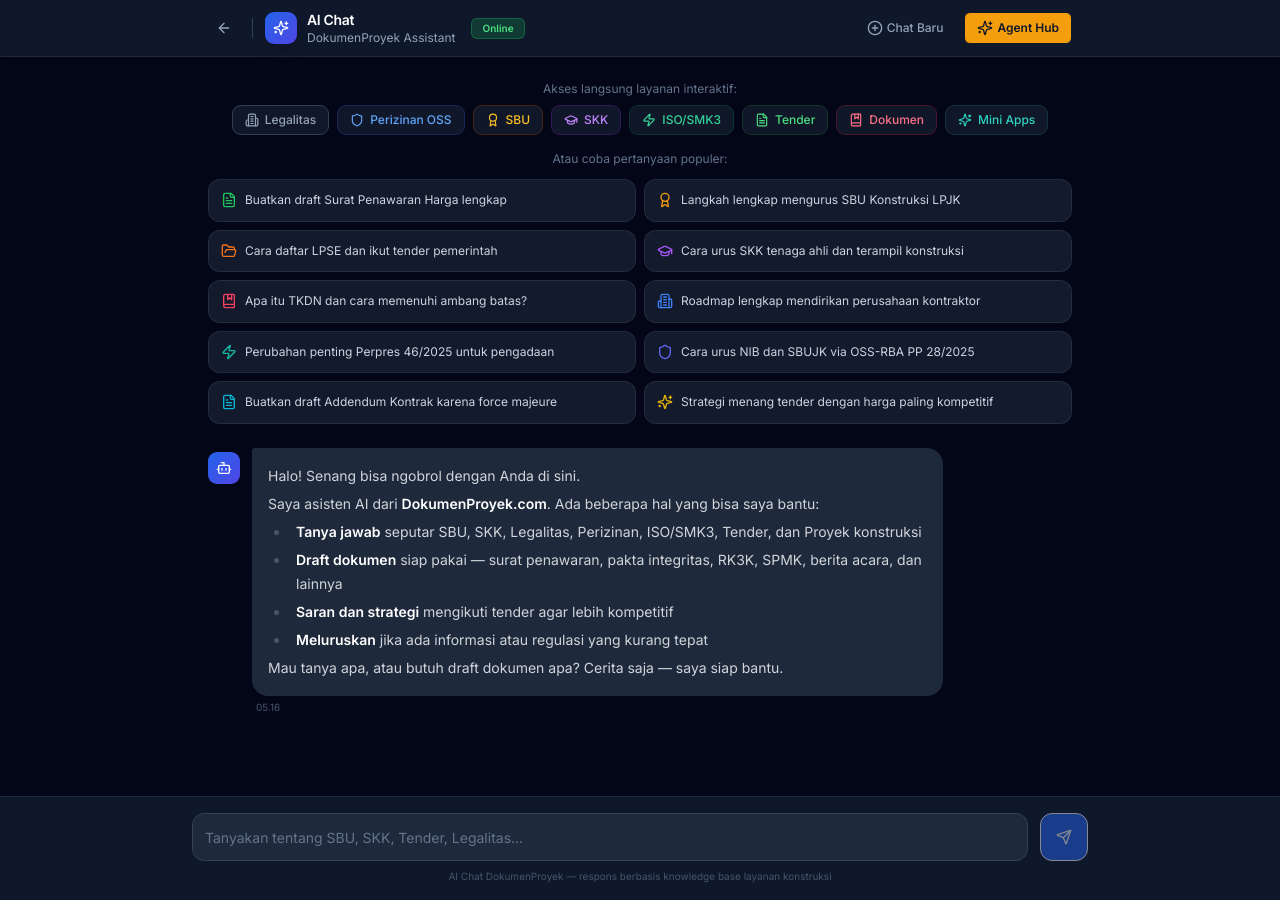
Test: AIChat – error message rendering › shows auth-error message WITHOUT retry button when API returns auth_error
This screenshot has width=1280, height=900.
In the field with test id "input-chat": (610, 837) [192,813,1028,861], type "Test auth"
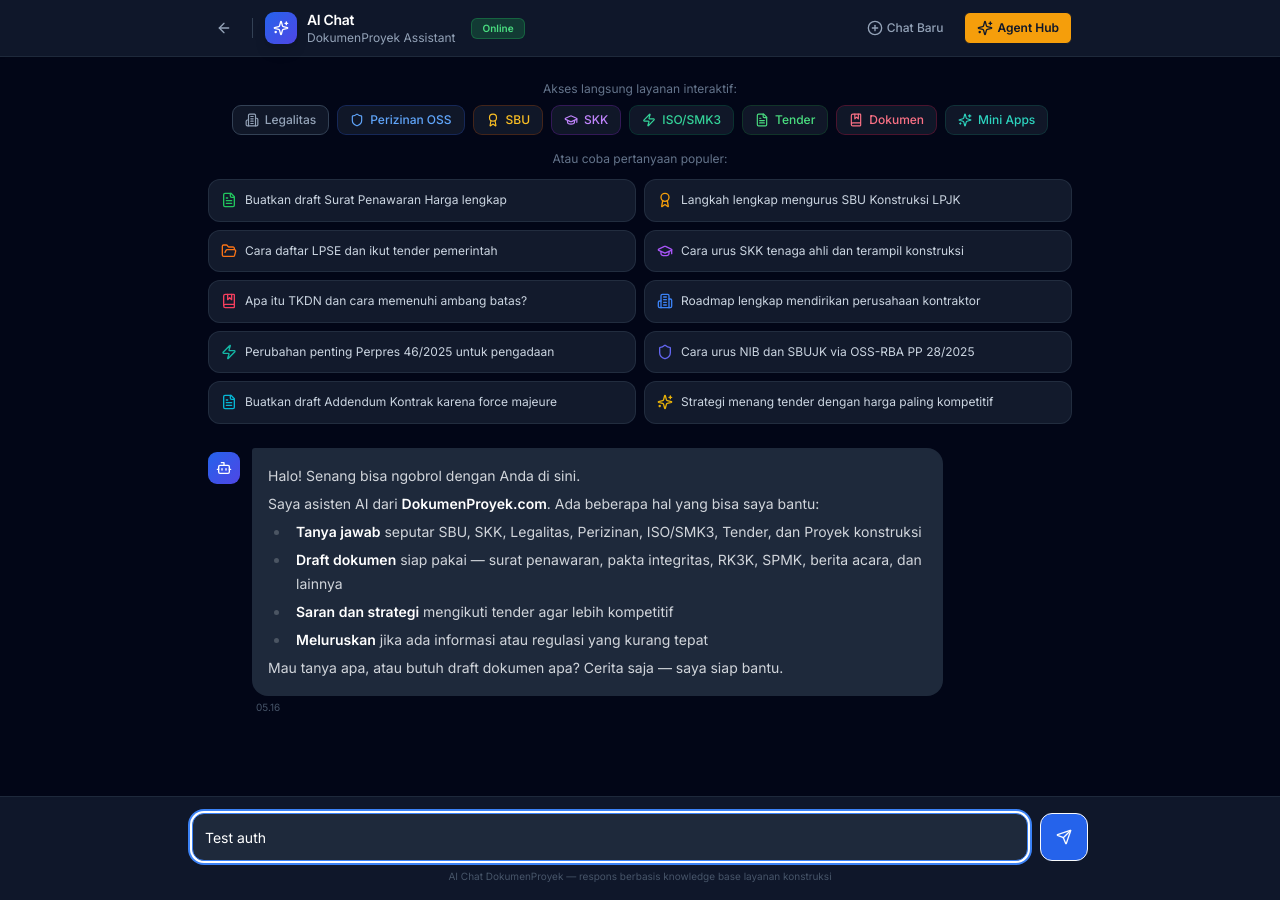
Click the button with test id "button-send-chat": (1064, 837) [1040,813,1088,861]
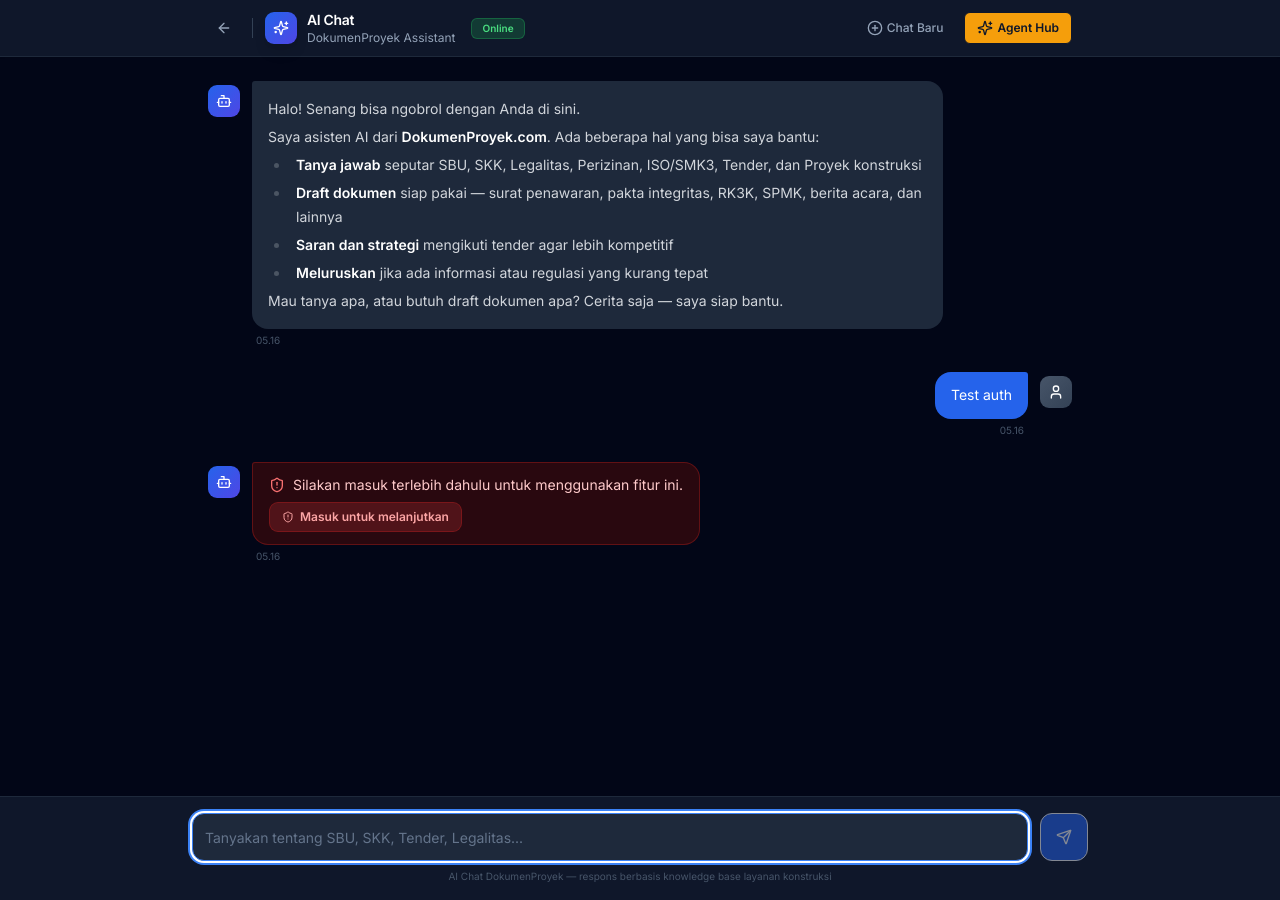
Check: the text "Silakan masuk terlebih dahulu untuk menggunakan fitur ini." is shown, box [293,475,683,494]
